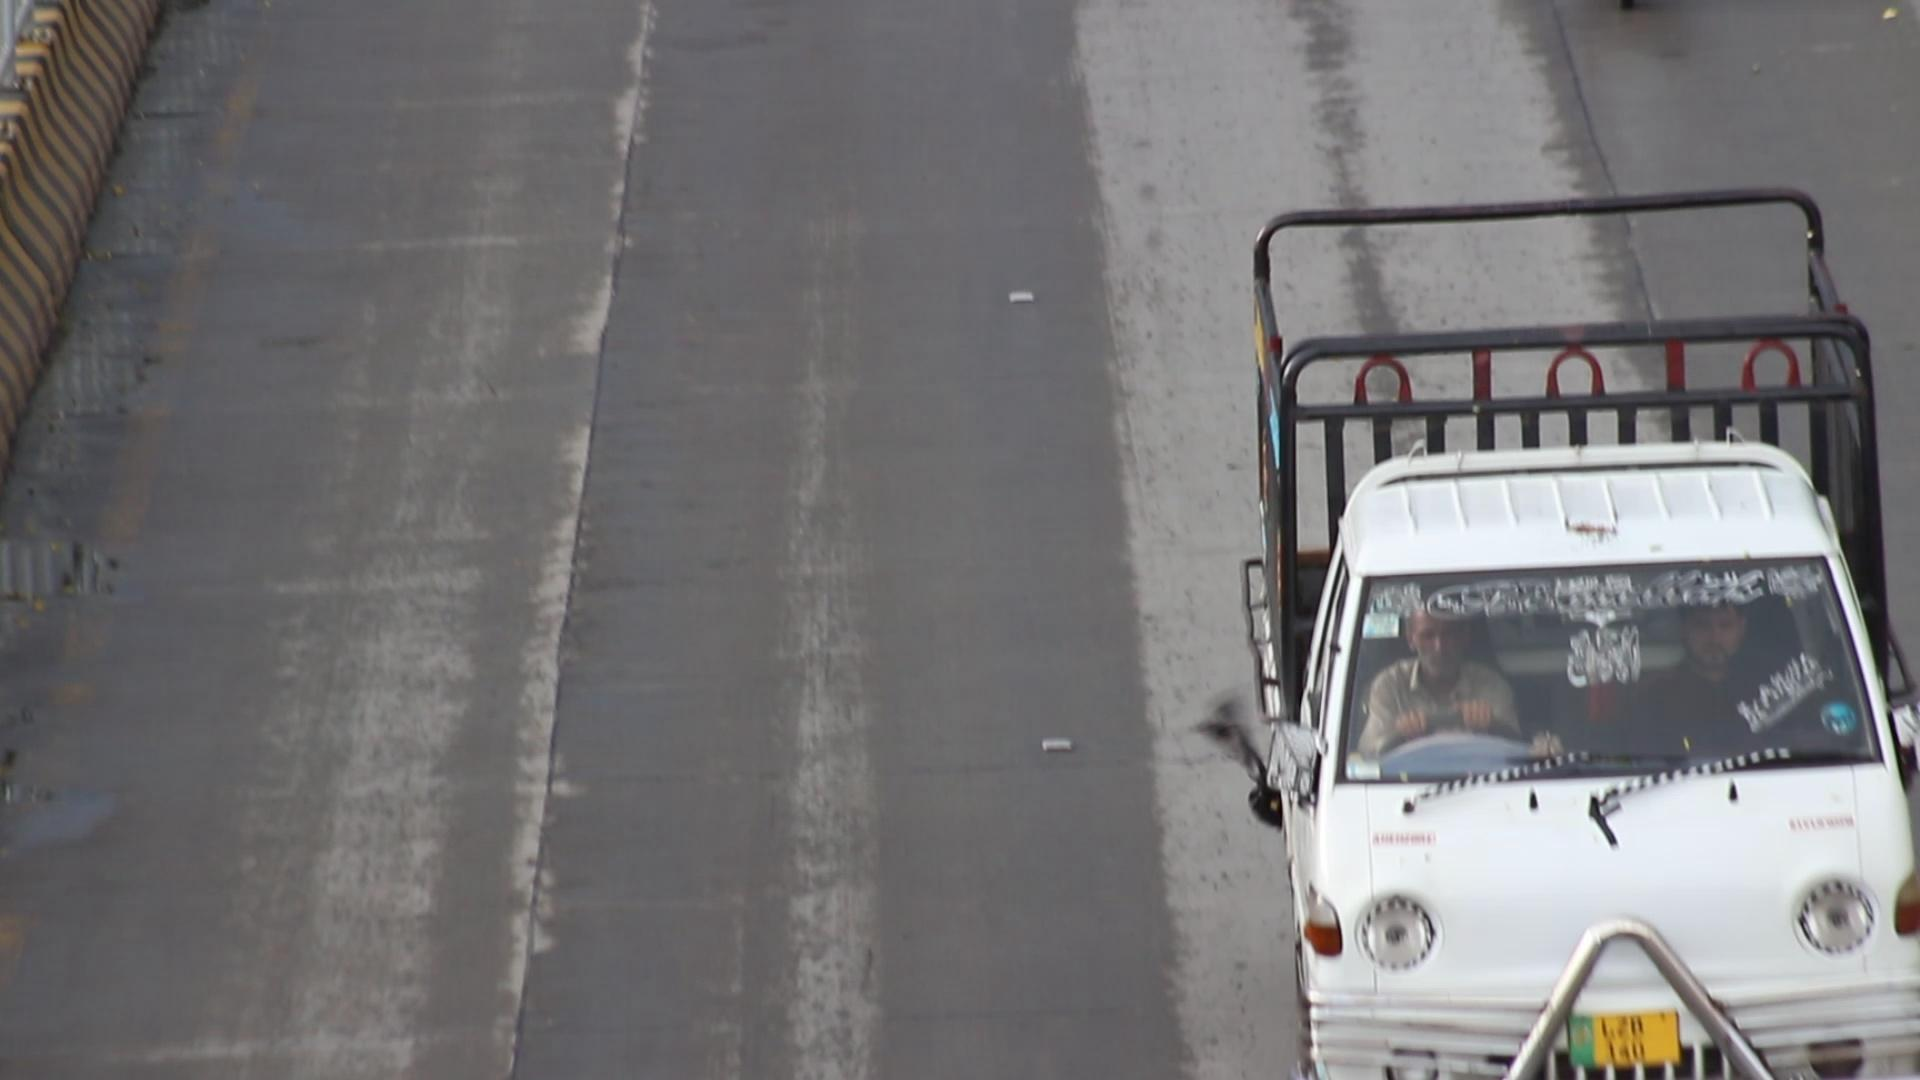windshield: (1327, 541, 1890, 810)
